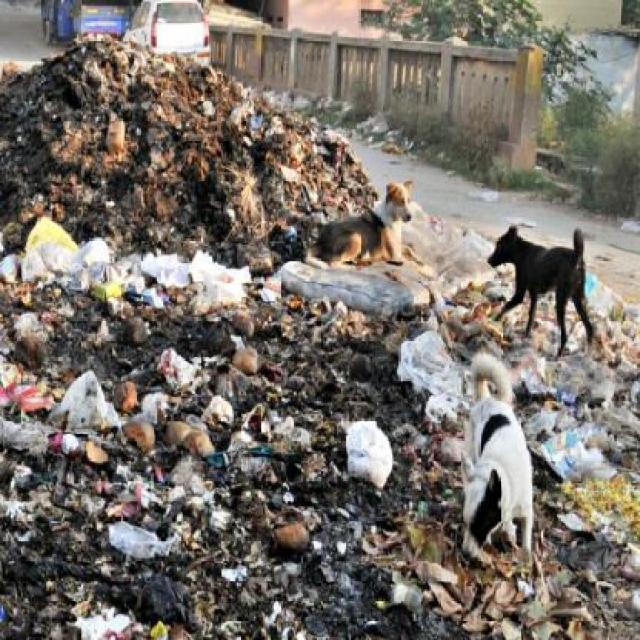garbage: (0, 54, 284, 638), (288, 257, 464, 638), (526, 346, 640, 632), (285, 99, 369, 210), (415, 202, 488, 249)
